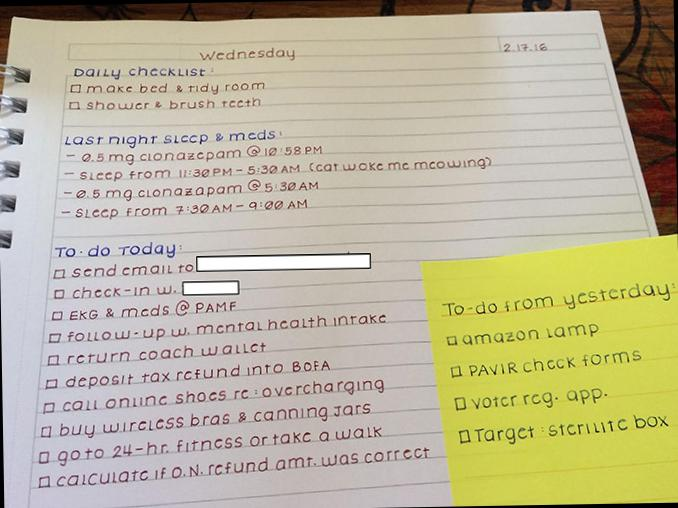text: (34, 446, 432, 491), (36, 424, 384, 470), (42, 376, 386, 418), (38, 401, 372, 441), (63, 154, 493, 184), (46, 310, 388, 346), (42, 358, 333, 394), (439, 279, 678, 319), (456, 411, 671, 447), (62, 176, 322, 204), (448, 346, 644, 381), (63, 142, 324, 168), (58, 195, 309, 222), (45, 340, 268, 368), (62, 124, 284, 151), (49, 296, 237, 324), (452, 384, 610, 413), (443, 321, 600, 350), (68, 78, 267, 98), (66, 94, 263, 112), (72, 60, 214, 82), (51, 239, 183, 261), (52, 262, 195, 280), (51, 282, 178, 301), (198, 44, 298, 63), (501, 40, 550, 54)
